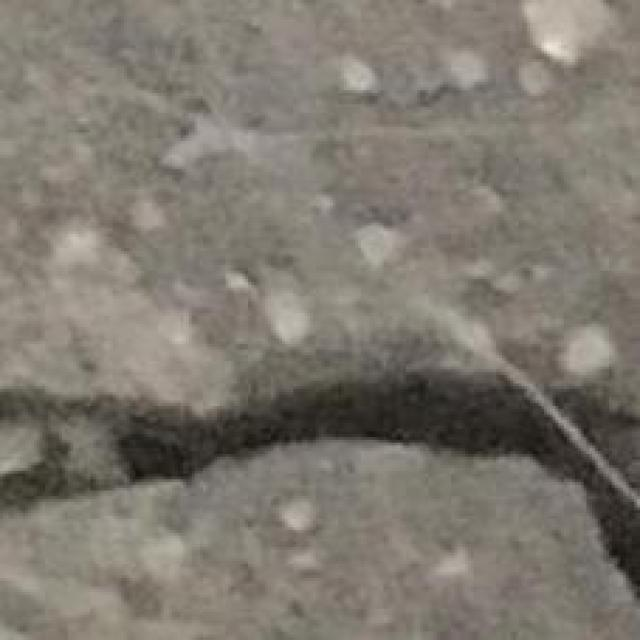Longitudinal: (553, 374, 640, 630)
Transverse: (4, 360, 547, 513)
